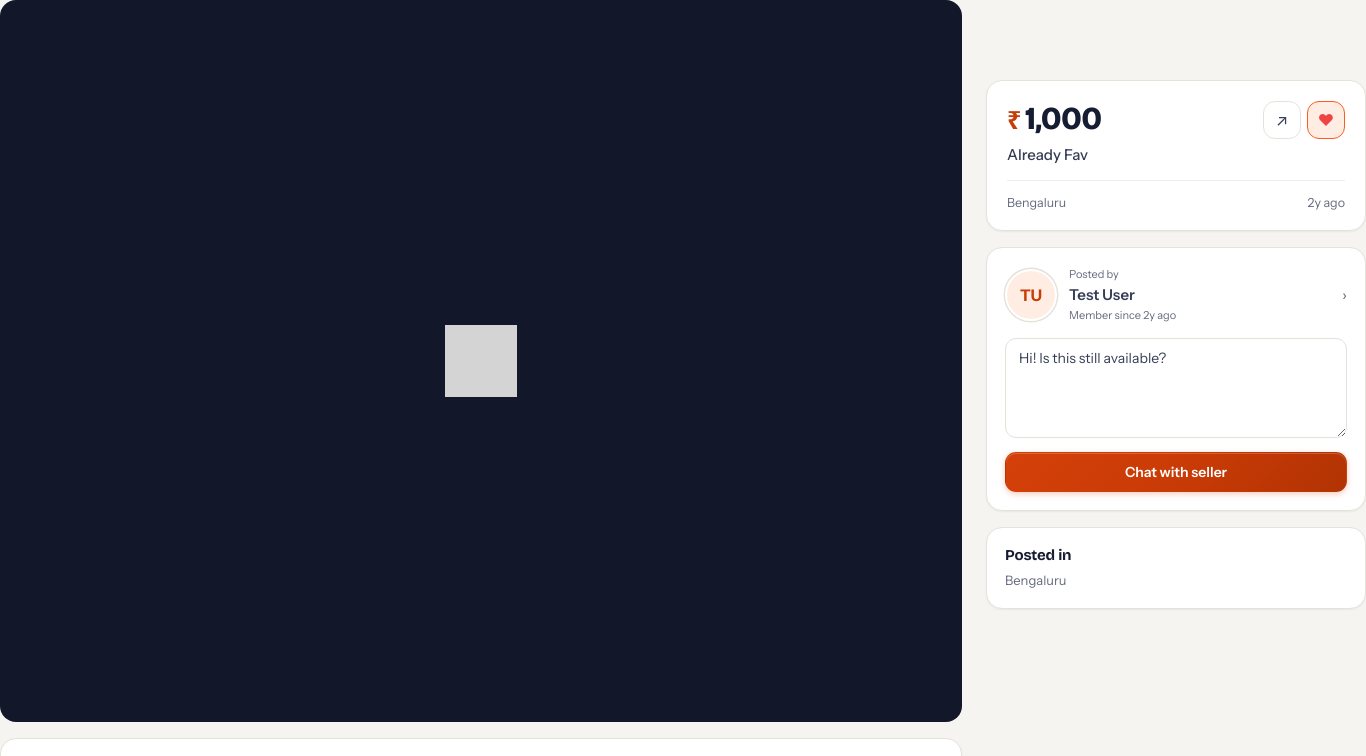
it: ListingDetails › renders an existing favorite state as "Remove from favorites" and toggles to add
Expected: the text "Already Fav" is shown, [1007,145,1088,164]
Click the button named "Remove from favorites": (1326, 120) [1307,101,1345,139]
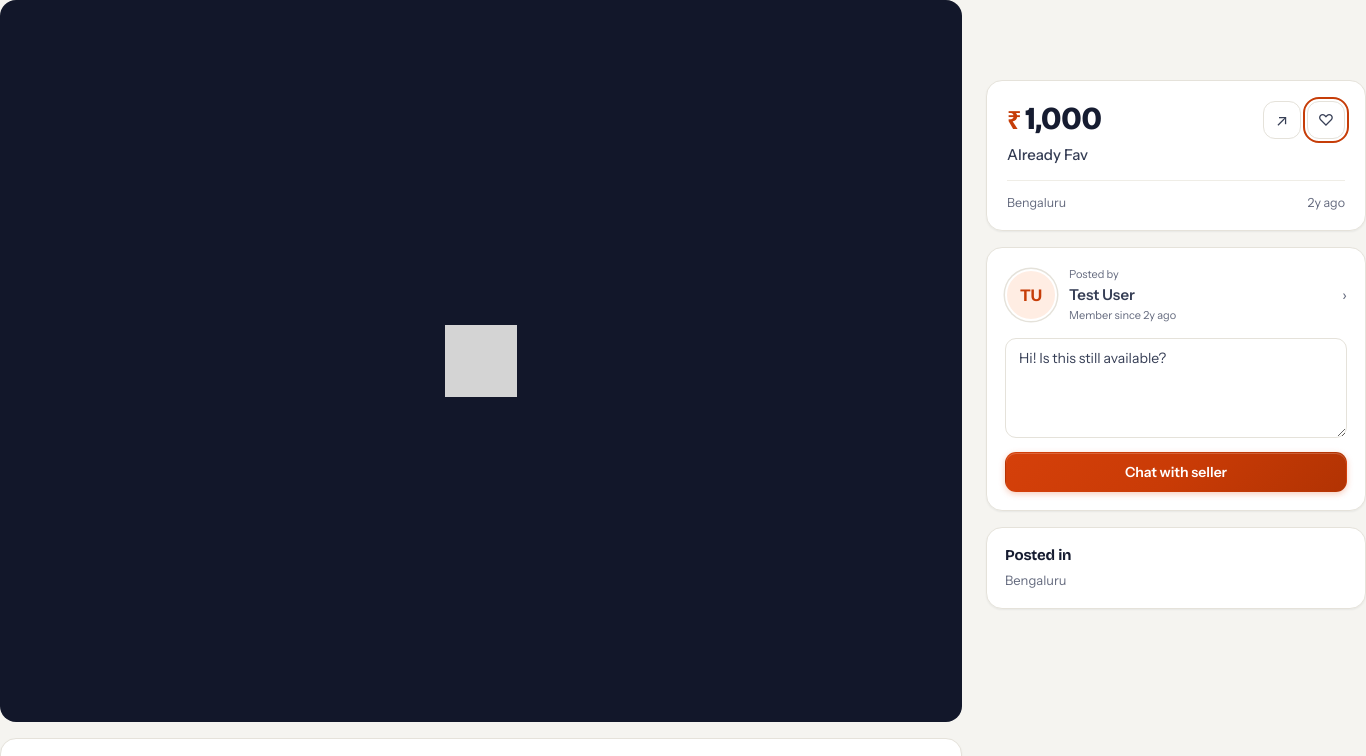
Expected: the button named "Save listing" is shown, [1307,101,1345,139]
